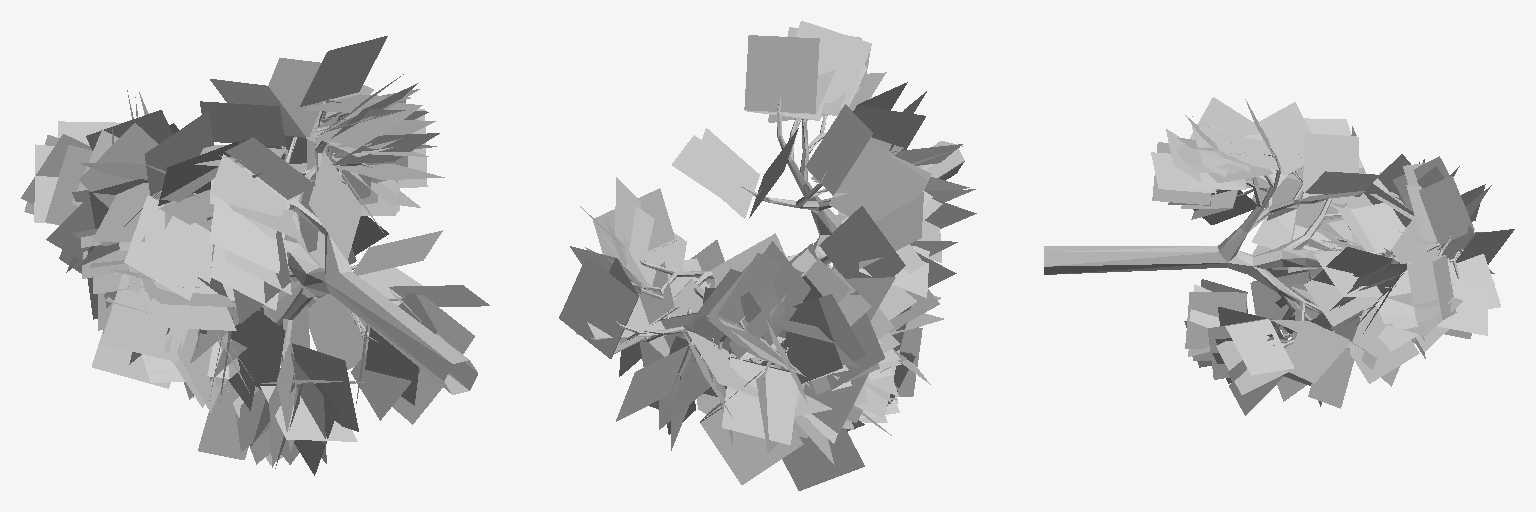
The robot description file, URDF, robot "tree_a":
<?xml version="1.0" ?>

<robot name="tree_a">

  <link name="tree_link">
    
    <inertial>
      <origin xyz="0 0 0" /> 
      <mass value="1.0" />
      <inertia  ixx="1.0" ixy="0.0"  ixz="0.0"  iyy="100.0"  iyz="0.0"  izz="1.0" />
    </inertial>
    
    <visual>
      <origin xyz="0 0 0"/>
      <geometry>
        <mesh filename="package://rosbombeiros_simulator/meshes/nature/tree_a.dae" />
      </geometry>
    </visual>
    
    <collision>
      <origin xyz="0 0 0"/>
      <geometry>
        <!-- TODO: create a bounding mesh -->
        <!-- <mesh filename="package://rosbombeiros_simulator/meshes/nature/tree_a.dae" /> -->
        <box size="1 1 2" />
      </geometry>
    </collision>
    
  </link>

</robot>

--- Render facts (derived) ---
Views: 3 orthographic renders of the robot side by side, from view 1: azimuth 30°, elevation 25°; view 2: azimuth 150°, elevation 25°; view 3: azimuth 270°, elevation 25°.
Robot: tree_a — 1 links, 0 joints (none); root link tree_link; default pose: every joint at zero.
Visible links, largest first — view 1: tree_link; view 2: tree_link; view 3: tree_link.
Link boxes in pixels (x1,y1,x2,y2): tree_link: (21, 36, 489, 475); tree_link: (559, 21, 976, 490); tree_link: (1044, 97, 1514, 415).
Bounding box of the posed robot: 3.98 × 6.2 × 4.68 m (x, y, z).
1 mesh visuals loaded from 1 distinct referenced files (1 Collada DAE).
